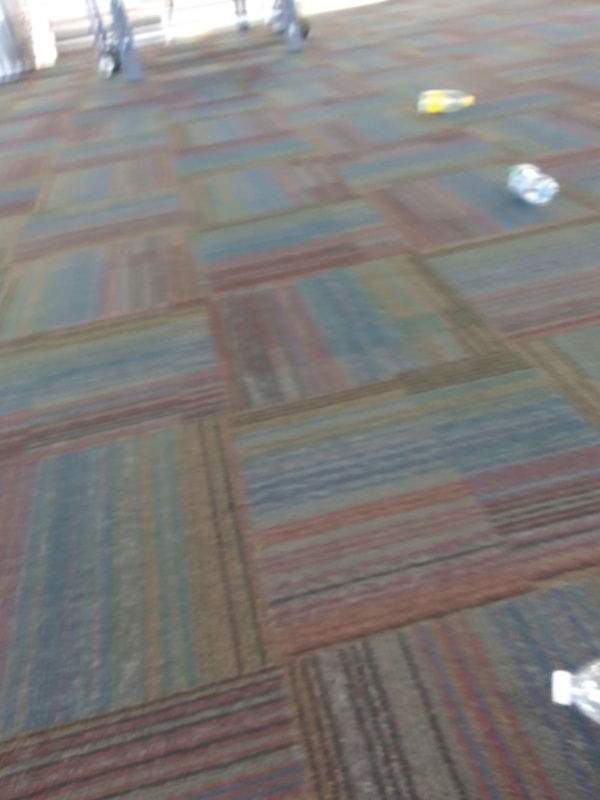bottle: (548, 651, 600, 732), (501, 161, 563, 211), (412, 87, 479, 116)
